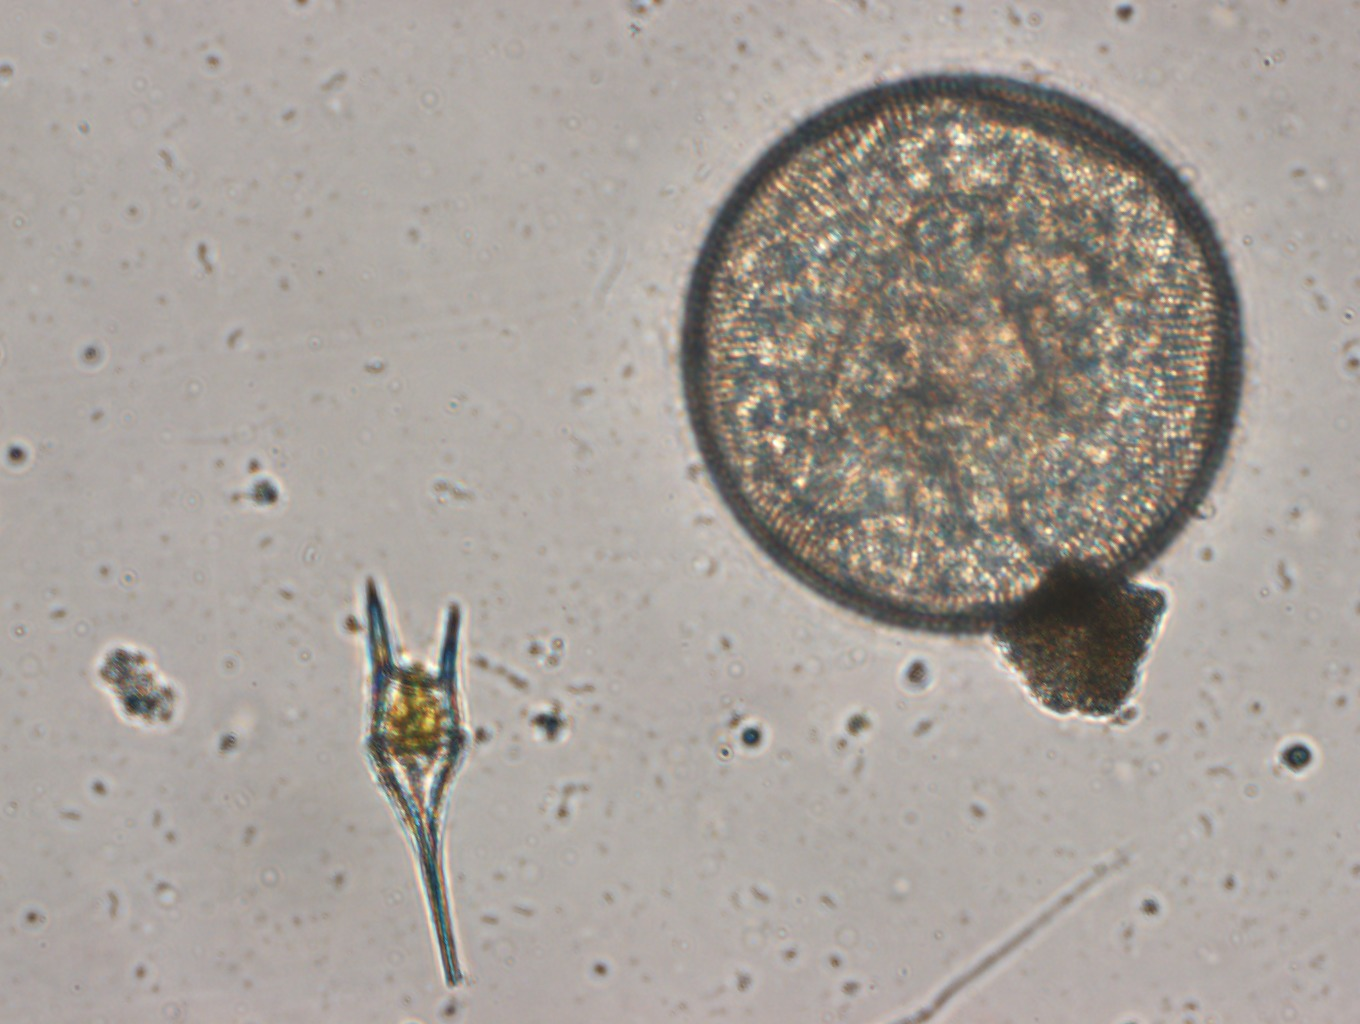ceratium furca: (672, 69, 1251, 644), (349, 572, 477, 992)
